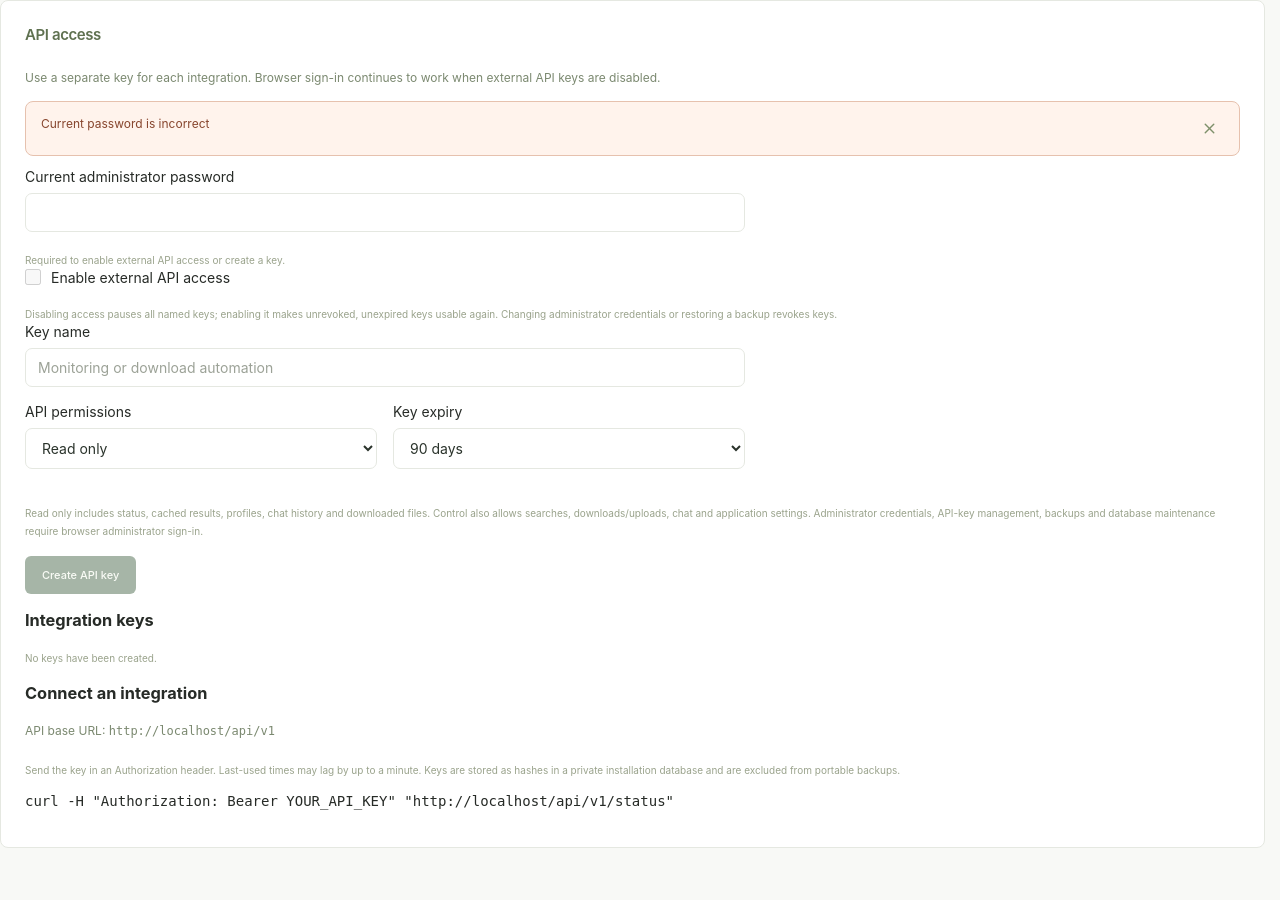
Test: keeps API failures dismissible without exposing stored secrets
expect the message "Current password is incorrect" is shown: met, box [25,101,1240,156]
Step 1. Click the button named "Dismiss error" → (1210, 128), box [1195,114,1224,143]
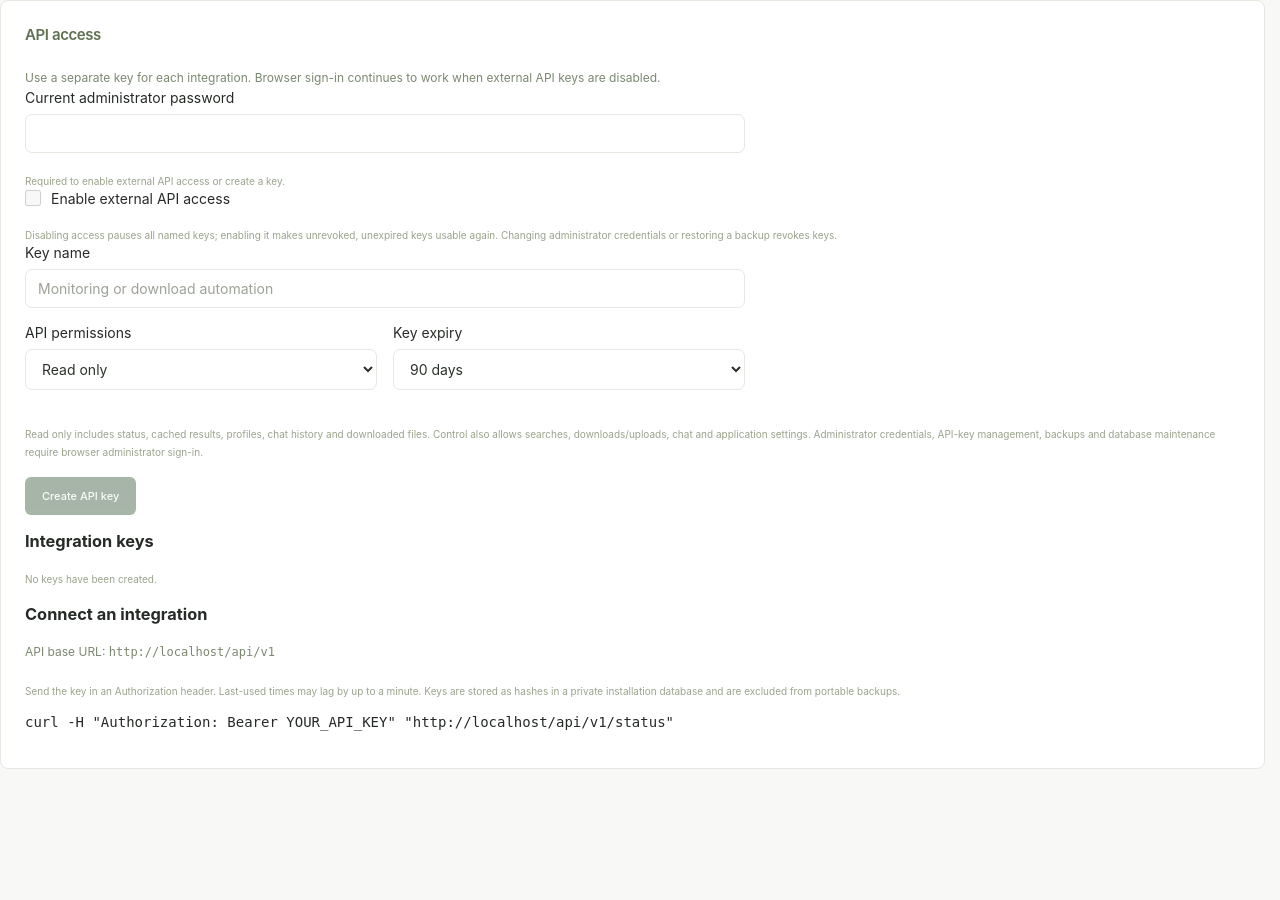
expect the message "Current password is incorrect" is gone: met
